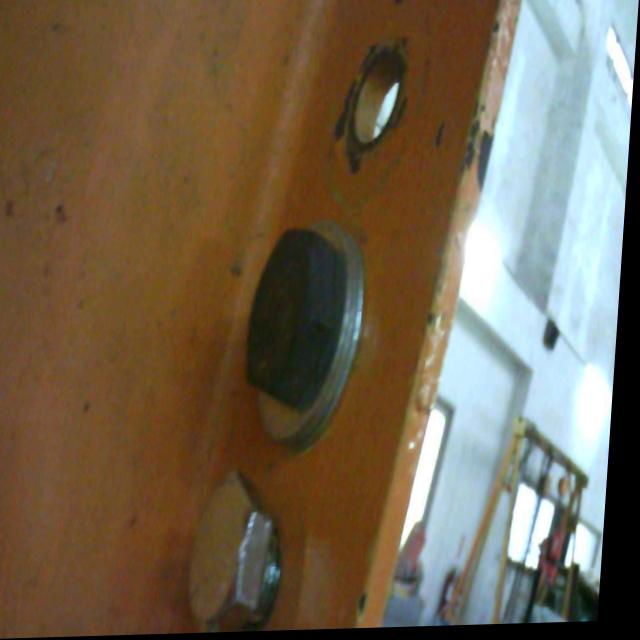Loose bolt: (195, 477, 298, 628)
Missing bolt: (356, 47, 408, 145)
Regular bolt: (180, 467, 302, 636)
Rusty bolt: (245, 224, 373, 453)
